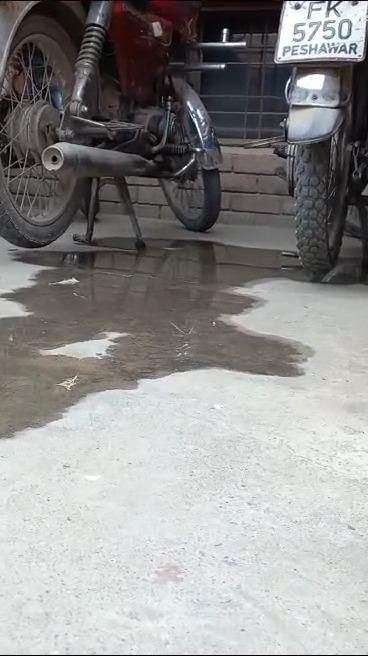water accumulation: (0, 236, 368, 440)
